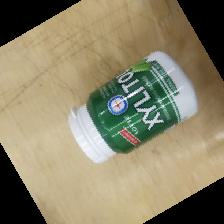Xylitol_green: (65, 49, 201, 165)
